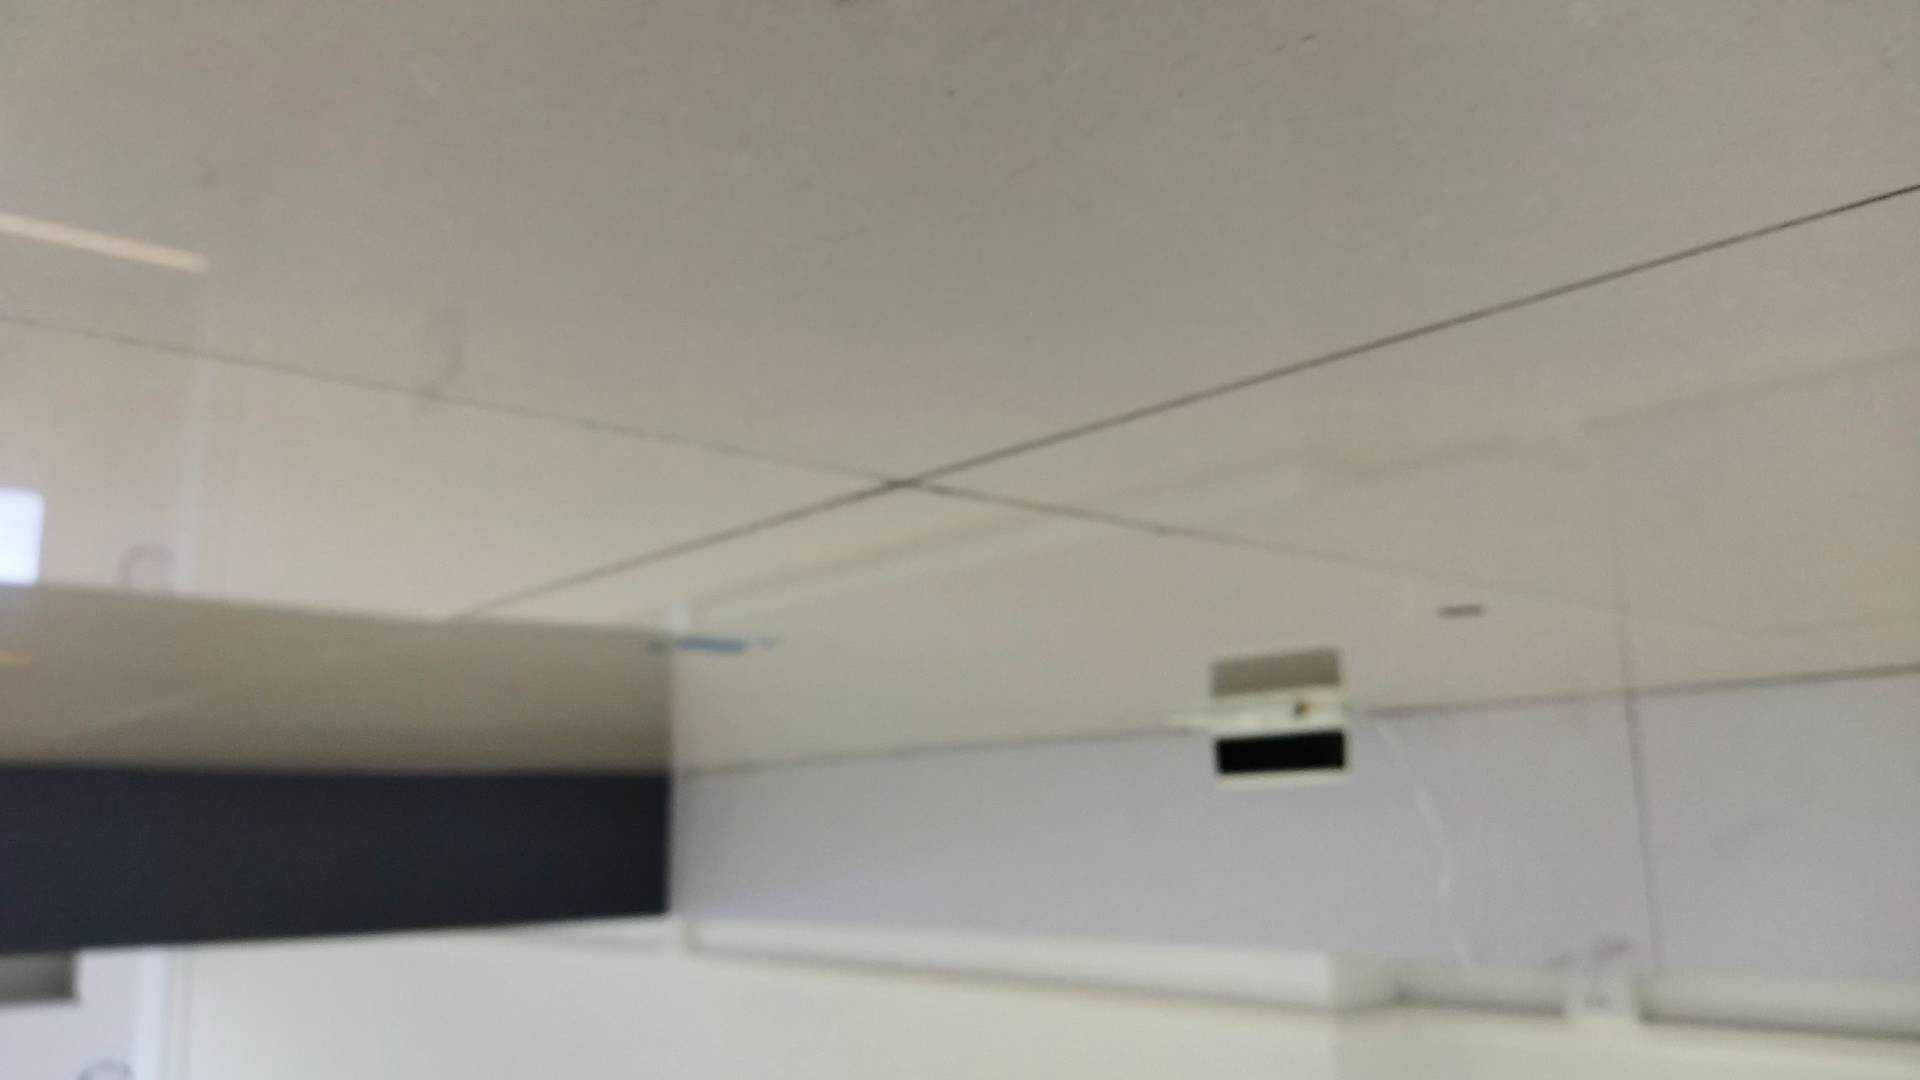recharge seat: (1163, 683, 1364, 793)
